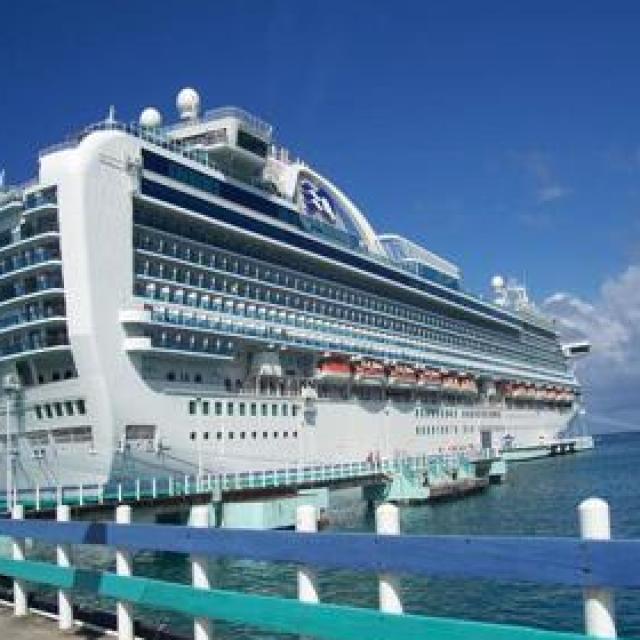passenger ship: (0, 86, 603, 491)
